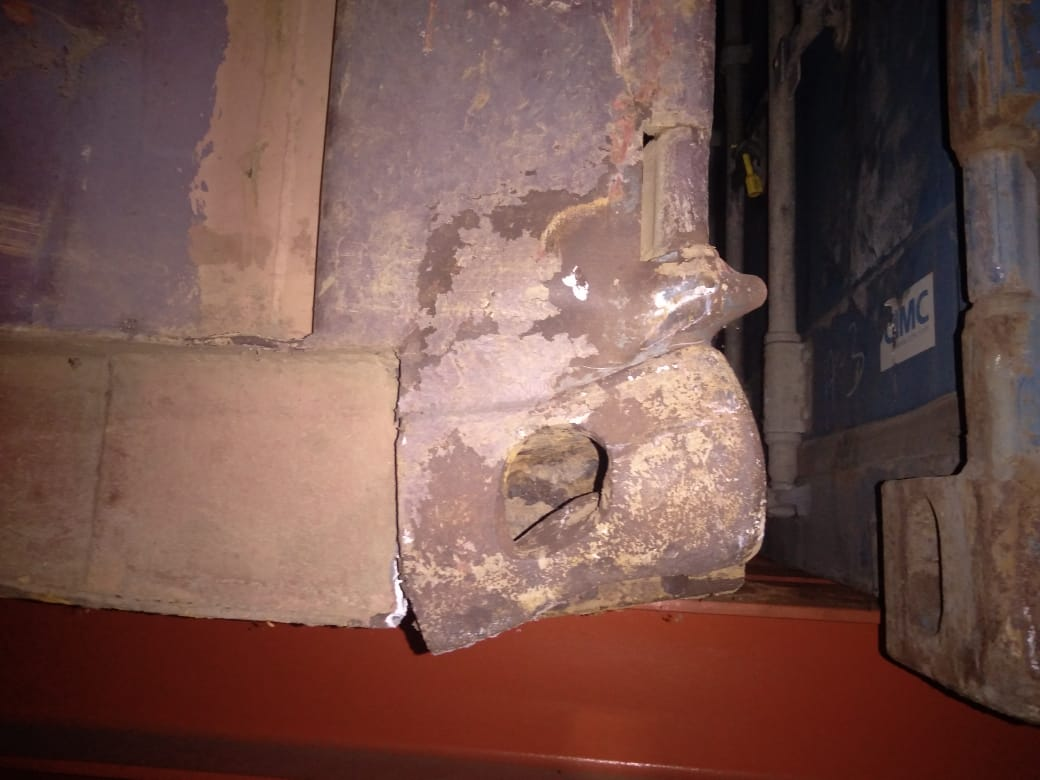corner_post: (258, 1, 787, 684)
